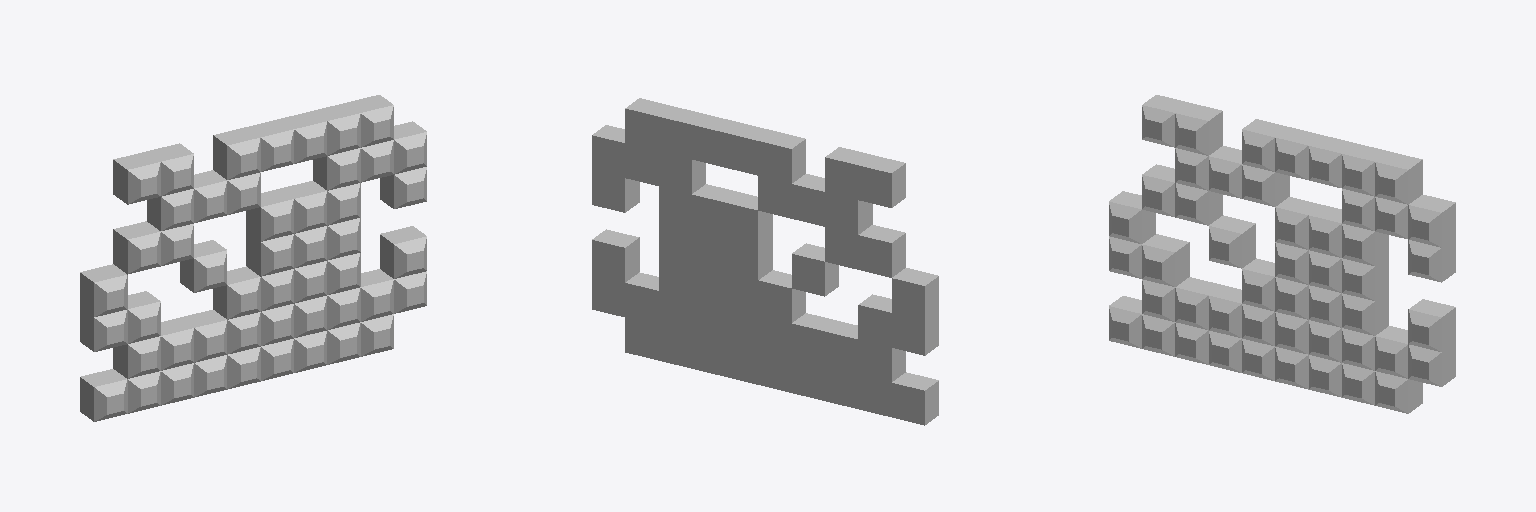
The model's file is Tetris.obj.
The picture shows the model from 3 angles: view 1: azimuth 30°, elevation 25°; view 2: azimuth 150°, elevation 25°; view 3: azimuth 330°, elevation 25°; orthographic projection.
Parts seen in each view (by area): view 1: Tetris_Wall; view 2: Tetris_Wall; view 3: Tetris_Wall.
Boxes of the visible parts, box(x1,y1,x2,y2) form: Tetris_Wall: box(80, 95, 426, 421); Tetris_Wall: box(592, 98, 938, 425); Tetris_Wall: box(1109, 95, 1455, 413).
Size of the model in its own units: 20 by 14 by 1.99.